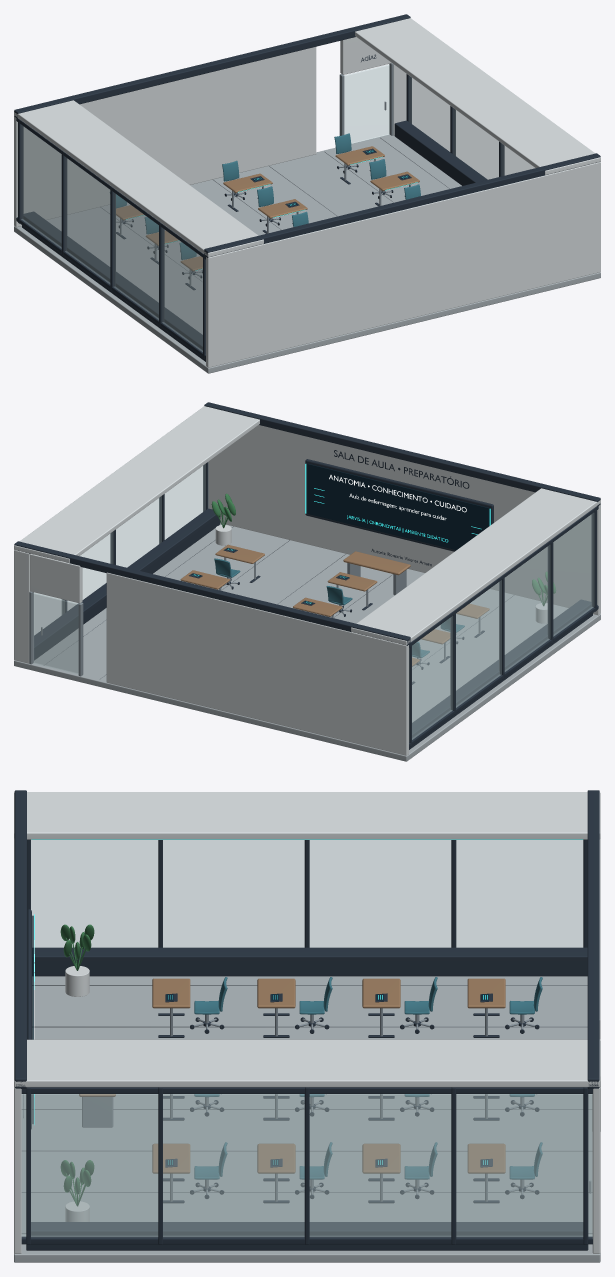
The model's file is ENV_Classroom_Futuristic_20261007.glb.
3 views of the same model, one above another, from view 1: azimuth 30°, elevation 25°; view 2: azimuth 150°, elevation 25°; view 3: azimuth 270°, elevation 25° (orthographic). The views are drawn at different scales.
Parts seen in each view (by area): view 1: BLD_Classroom_FrontWall, BLD_Classroom_RearWallLeft, MOD_Classroom_Floor, MOD_GlassWall_-1, MOD_CeilingSide_-1, MOD_CeilingSide_1, MOD_GlassWall_1, MOD_RoofFrame_5.86, MOD_RoofFrame_-5.86, MOD_Classroom_Door, MOD_LowWallBench_-1, MOD_LowWallBench_1 (+12 smaller); view 2: BLD_Classroom_RearWallLeft, MOD_Classroom_Floor, BLD_Classroom_FrontWall, MOD_GlassWall_-1, MOD_CeilingSide_-1, MOD_CeilingSide_1, EDU_Hologram_Display, MOD_GlassWall_1, MOD_RoofFrame_-5.86, MOD_LowWallBench_1, MOD_RoofFrame_5.86, MOD_Classroom_Door (+15 smaller); view 3: MOD_Classroom_Floor, MOD_GlassWall_1, MOD_GlassWall_-1, MOD_CeilingSide_1, MOD_CeilingSide_-1, MOD_LowWallBench_-1, MOD_LowWallBench_1, MOD_WindowRail_(1, 0.28), MOD_RoofFrame_5.86, MOD_WindowRail_(1, 3.68), MOD_RoofFrame_-5.86, BLD_Classroom_FrontWall (+21 smaller).
Boxes of the visible parts, bbox=[...] form: BLD_Classroom_FrontWall: bbox=[206, 162, 600, 367]; BLD_Classroom_RearWallLeft: bbox=[14, 47, 316, 227]; MOD_Classroom_Floor: bbox=[14, 134, 600, 373]; MOD_GlassWall_-1: bbox=[17, 122, 205, 353]; MOD_CeilingSide_-1: bbox=[14, 100, 263, 257]; MOD_CeilingSide_1: bbox=[355, 18, 600, 174]; MOD_GlassWall_1: bbox=[406, 74, 534, 179]; MOD_RoofFrame_5.86: bbox=[14, 14, 410, 118]; MOD_RoofFrame_-5.86: bbox=[204, 153, 600, 257]; MOD_Classroom_Door: bbox=[344, 64, 389, 143]; MOD_LowWallBench_-1: bbox=[22, 211, 205, 361]; MOD_LowWallBench_1: bbox=[394, 120, 487, 185]; BLD_Classroom_RearWallLeft: bbox=[106, 572, 408, 755]; MOD_Classroom_Floor: bbox=[14, 523, 600, 761]; BLD_Classroom_FrontWall: bbox=[208, 425, 600, 615]; MOD_GlassWall_-1: bbox=[409, 510, 597, 741]; MOD_CeilingSide_-1: bbox=[351, 488, 600, 645]; MOD_CeilingSide_1: bbox=[14, 406, 259, 562]; EDU_Hologram_Display: bbox=[307, 463, 489, 550]; MOD_GlassWall_1: bbox=[34, 462, 208, 634]; MOD_RoofFrame_-5.86: bbox=[204, 402, 600, 506]; MOD_LowWallBench_1: bbox=[34, 508, 220, 660]; MOD_RoofFrame_5.86: bbox=[14, 541, 410, 645]; MOD_Classroom_Door: bbox=[33, 593, 78, 674]; MOD_Classroom_Floor: bbox=[14, 976, 600, 1262]; MOD_GlassWall_1: bbox=[21, 1094, 592, 1237]; MOD_GlassWall_-1: bbox=[31, 840, 583, 947]; MOD_CeilingSide_1: bbox=[14, 1039, 600, 1087]; MOD_CeilingSide_-1: bbox=[14, 792, 600, 839]; MOD_LowWallBench_-1: bbox=[32, 947, 587, 976]; MOD_LowWallBench_1: bbox=[26, 1222, 588, 1250]; MOD_WindowRail_(1, 0.28): bbox=[21, 1236, 592, 1244]; MOD_RoofFrame_5.86: bbox=[587, 790, 599, 1088]; MOD_WindowRail_(1, 3.68): bbox=[21, 1087, 592, 1093]; MOD_RoofFrame_-5.86: bbox=[14, 790, 26, 1088]; BLD_Classroom_FrontWall: bbox=[14, 839, 21, 1253].
Size of the model in its own units: 14 by 4.16 by 12.01.
